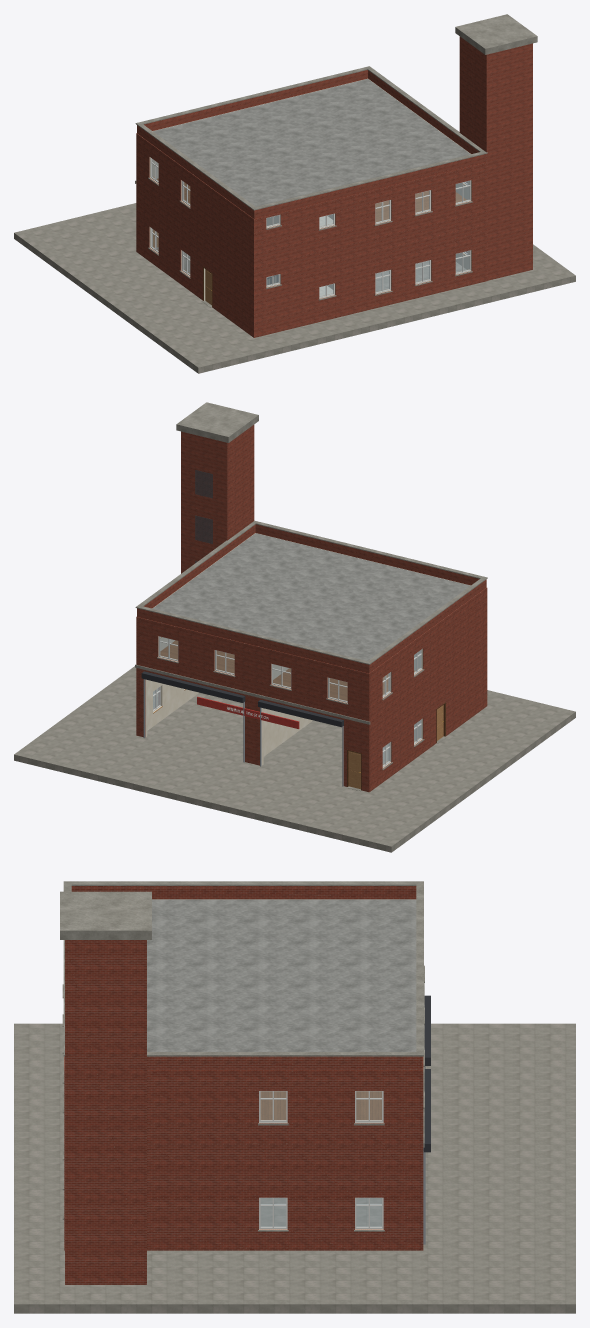
Rendered from b_fire_station.gltf.
3 views of the same model, one above another, from view 1: azimuth 30°, elevation 25°; view 2: azimuth 150°, elevation 25°; view 3: azimuth 270°, elevation 25° (orthographic). The views are drawn at different scales.
Parts seen in each view (by area): view 1: S_fire_station; view 2: S_fire_station; view 3: S_fire_station.
Boxes of the visible parts, bbox=[...] form: S_fire_station: bbox=[14, 14, 575, 373]; S_fire_station: bbox=[14, 402, 575, 852]; S_fire_station: bbox=[14, 881, 575, 1313].
Size of the model in its own units: 26 by 15.8 by 22.
Materials: 19 (11 with a texture image).
